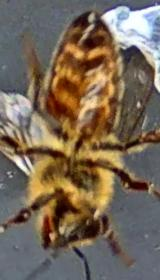varroa_mite: (38, 86, 62, 121)
